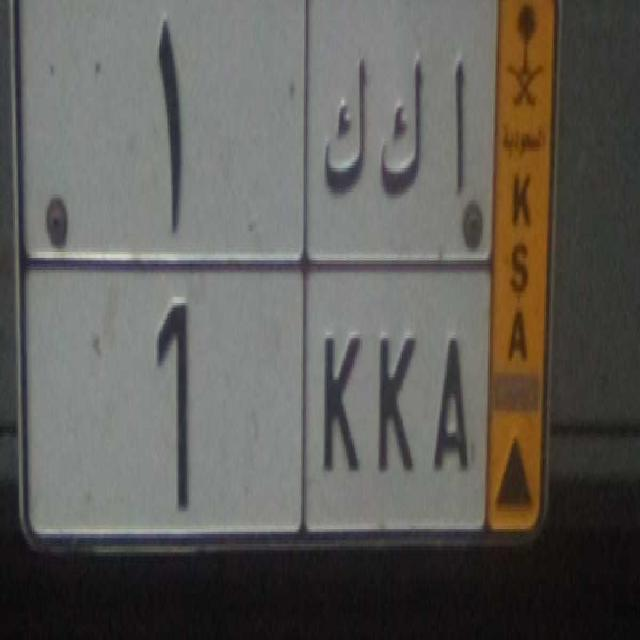license_plate: (30, 255, 488, 548)
